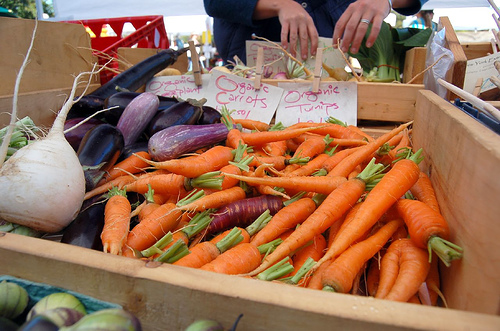turnip: (0, 55, 122, 239)
